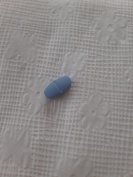Majezik: (43, 75, 72, 100)
